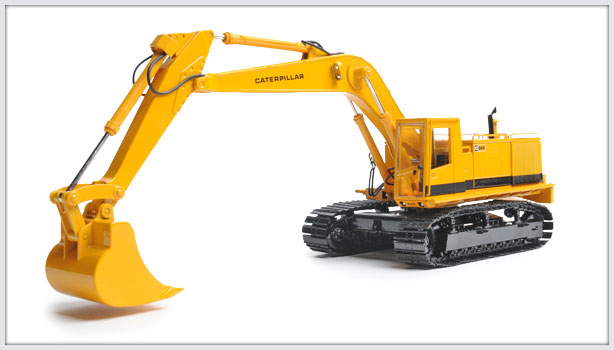backhoe: (41, 1, 566, 315)
